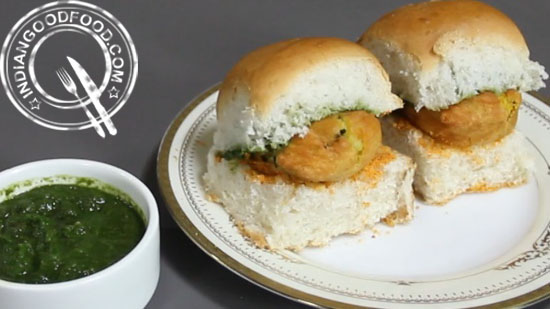vada pav: (241, 45, 378, 233), (402, 7, 521, 179)
